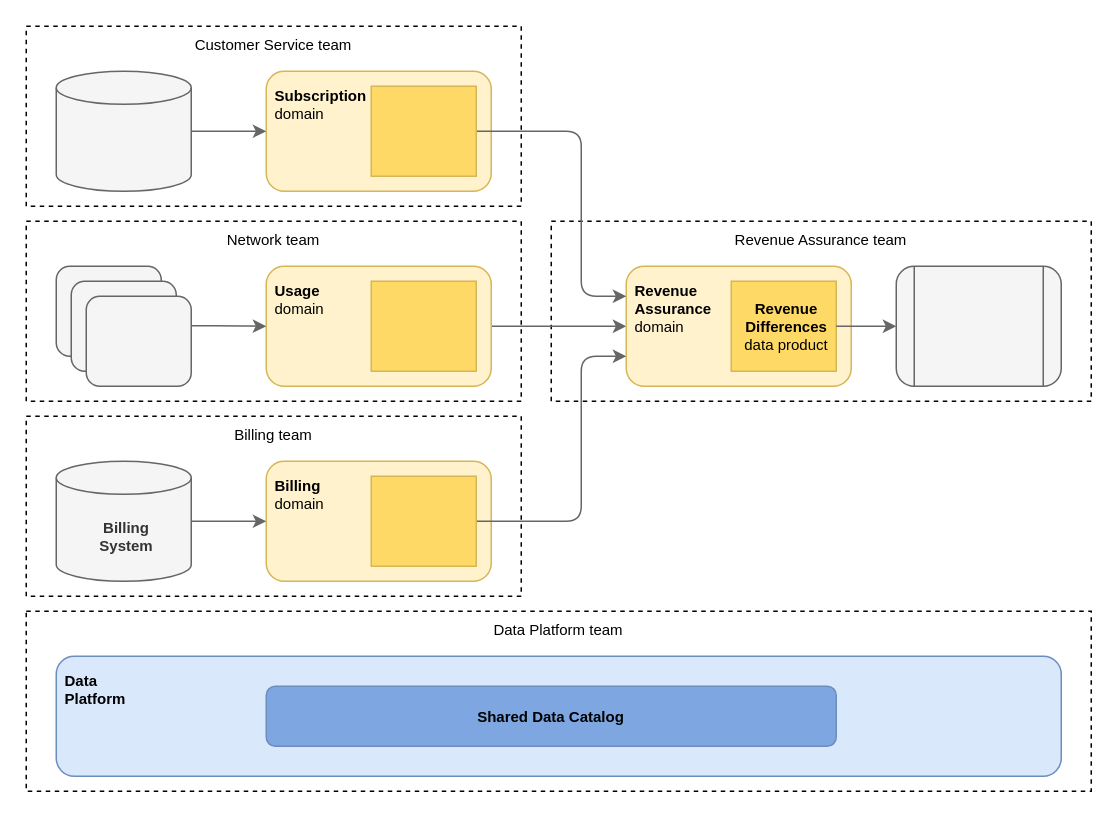
This 1118x818 diagram has some shape labels left out. Each missing label, with the centre of its shape:
"Billing data product" belongs at (423,520).
"Customer Service" belongs at (123,130).
"Network Systems" belongs at (138,340).
"Revenue Assurance Analytics" belongs at (978,325).
"Subscription data product" belongs at (423,130).
"Usage data product" belongs at (423,325).
